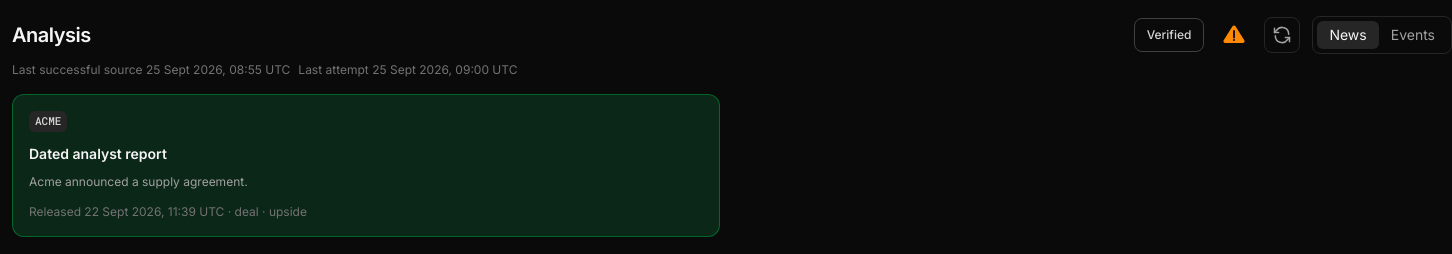
NewsSection › keeps undated discoveries out of the verified feed until its filter is changed
Expected: the button "Dated analyst report" is shown, [12, 94, 720, 236]
Expected: the button "Undated analyst report" is not shown
Click the button with aria-label "Showing verified news" at (1169, 35), box [1134, 18, 1204, 52]
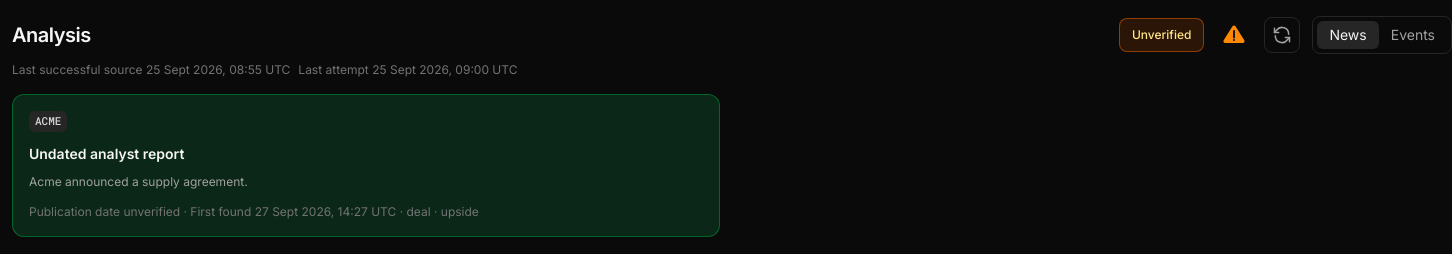
Expected: the button "Undated analyst report" shows "Publication date unverified", [12, 94, 720, 236]
